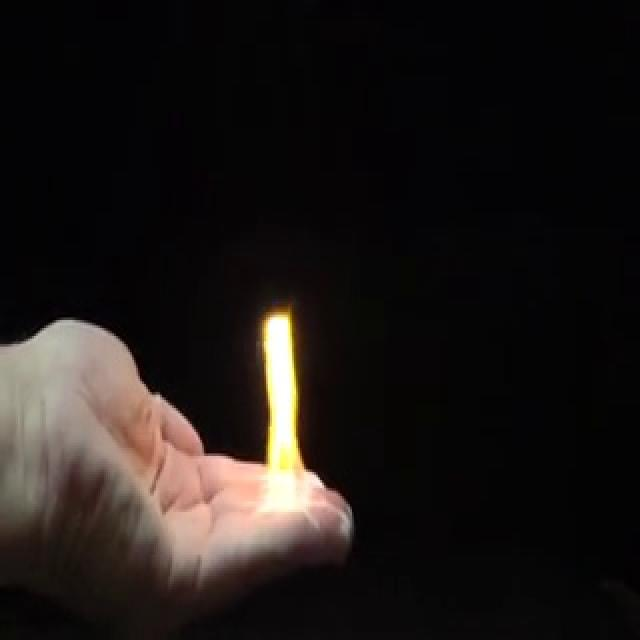fire: (258, 300, 314, 532)
